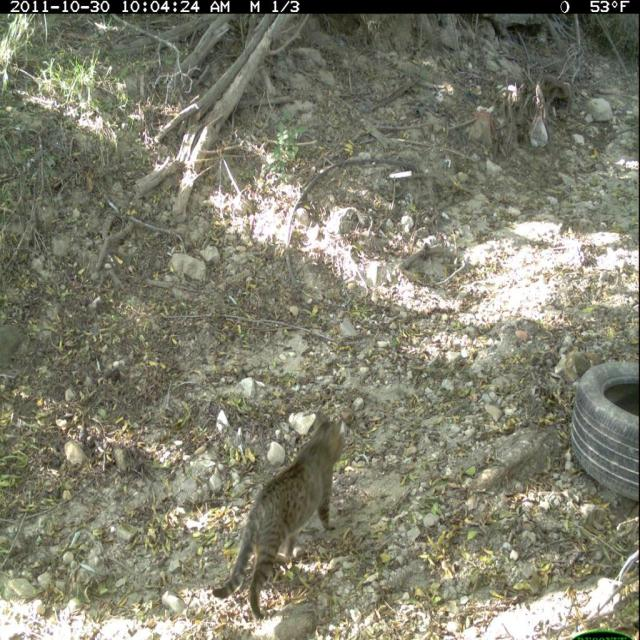cat: (203, 403, 353, 628)
